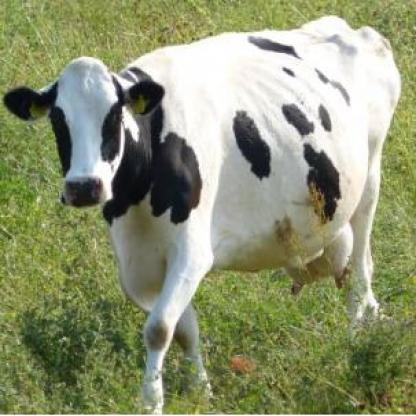cow: (0, 14, 402, 416)
